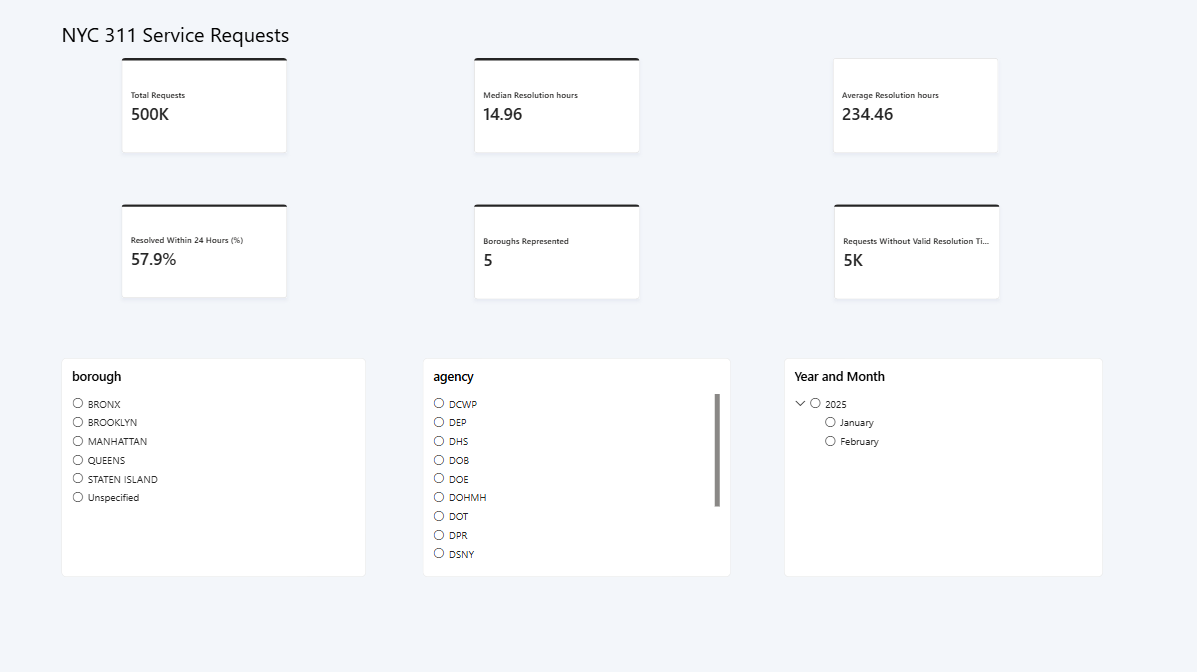

What the dashboard file says about the page in this screenshot:
{"tool":"powerbi","page":{"name":"Overview","canvas":[1920,1080],"ordinal":0},"visuals":[{"type":"cardVisual","fields":{"Data":["ServiceRequests.Total Requests"]},"box":[195.5,96.7,265.5,152.3],"z":0},{"type":"cardVisual","fields":{"Data":["ServiceRequests.Average Resolution hours"]},"box":[1334.9,96.7,265.5,152.3],"z":1},{"type":"cardVisual","fields":{"Data":["ServiceRequests.Median Resolution hours"]},"box":[759.5,96.7,265.5,152.3],"z":2},{"type":"cardVisual","fields":{"Data":["ServiceRequests.Resolved Within 24 Hours (%)"]},"box":[195.5,329.3,265.5,150.3],"z":3},{"type":"cardVisual","fields":{"Data":["ServiceRequests.Requests Without Valid Resolution Time"]},"box":[1335.9,329.3,265.5,152.3],"z":4},{"type":"cardVisual","fields":{"Data":["ServiceRequests.Boroughs Represented"]},"box":[759.5,329.3,265.5,152.3],"z":5},{"type":"listSlicer","fields":{"Values":["ServiceRequests.borough"]},"box":[100,575,487.5,350],"z":6},{"type":"listSlicer","fields":{"Values":["ServiceRequests.agency"]},"box":[677.5,575,492.5,350],"z":7},{"type":"listSlicer","fields":{"Values":["ServiceRequests.created_date.Variation.Date Hierarchy.Year","ServiceRequests.created_date.Variation.Date Hierarchy.Month"]},"box":[1255,575,510,350],"z":8},{"type":"textbox","box":[100,930,488,150],"z":9},{"type":"textbox","box":[100,36,1112,82],"z":10}]}

Visuals, with their boxes in screenshot pixels (x1, y1, x2, y2), scaled from the page's 1920x1080 canvas onto the 1197x672 screenshot:
cardVisual - ServiceRequests.Total Requests: [left=122, top=60, right=287, bottom=155]
cardVisual - ServiceRequests.Average Resolution hours: [left=832, top=60, right=998, bottom=155]
cardVisual - ServiceRequests.Median Resolution hours: [left=474, top=60, right=639, bottom=155]
cardVisual - ServiceRequests.Resolved Within 24 Hours (%): [left=122, top=205, right=287, bottom=298]
cardVisual - ServiceRequests.Requests Without Valid Resolution Time: [left=833, top=205, right=998, bottom=300]
cardVisual - ServiceRequests.Boroughs Represented: [left=474, top=205, right=639, bottom=300]
listSlicer - ServiceRequests.borough: [left=62, top=358, right=366, bottom=576]
listSlicer - ServiceRequests.agency: [left=422, top=358, right=729, bottom=576]
listSlicer - ServiceRequests.created_date.Variation.Date Hierarchy.Year x ServiceRequests.created_date.Variation.Date Hierarchy.Month: [left=782, top=358, right=1100, bottom=576]
textbox: [left=62, top=579, right=367, bottom=671]
textbox: [left=62, top=22, right=756, bottom=73]
